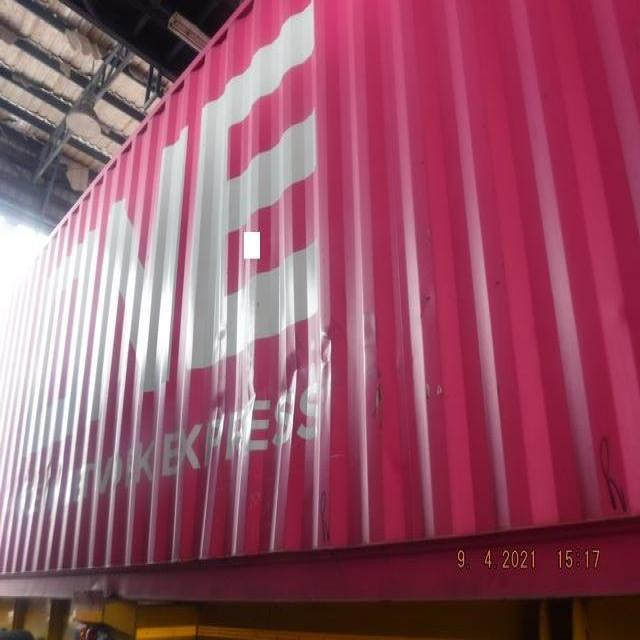Dent: (183, 296, 353, 463)
